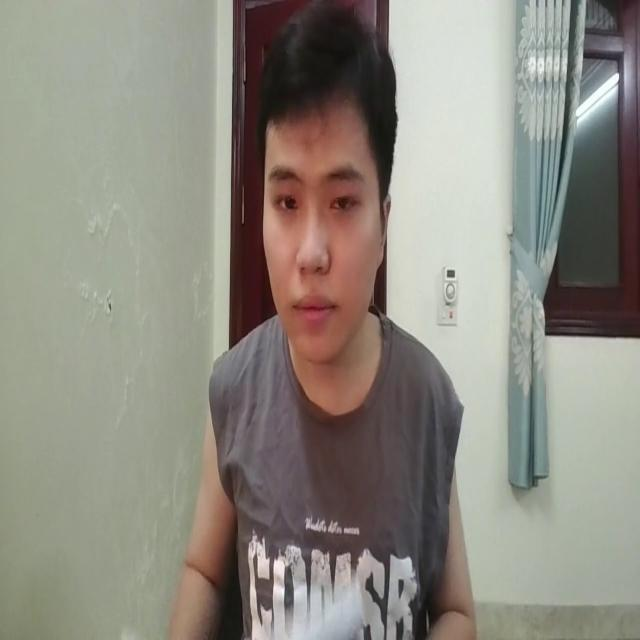student: (146, 1, 477, 640)
